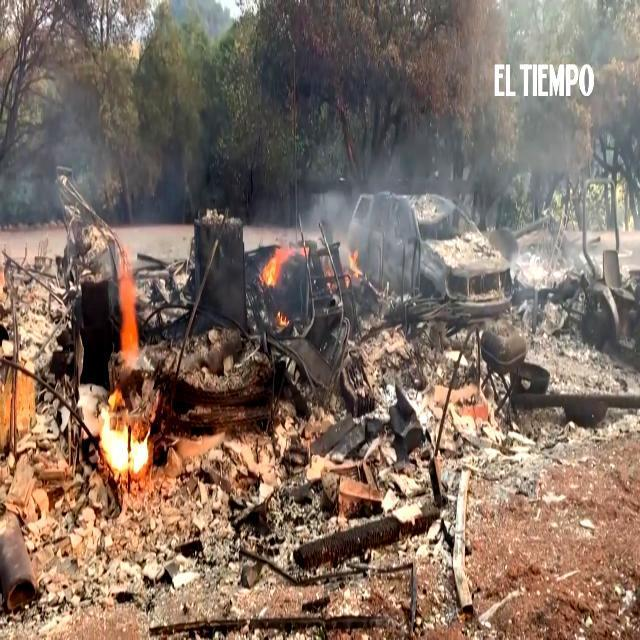Fire: (91, 389, 152, 482), (110, 256, 146, 375), (254, 236, 303, 283), (272, 309, 291, 332)
Smoke: (313, 0, 640, 250)
